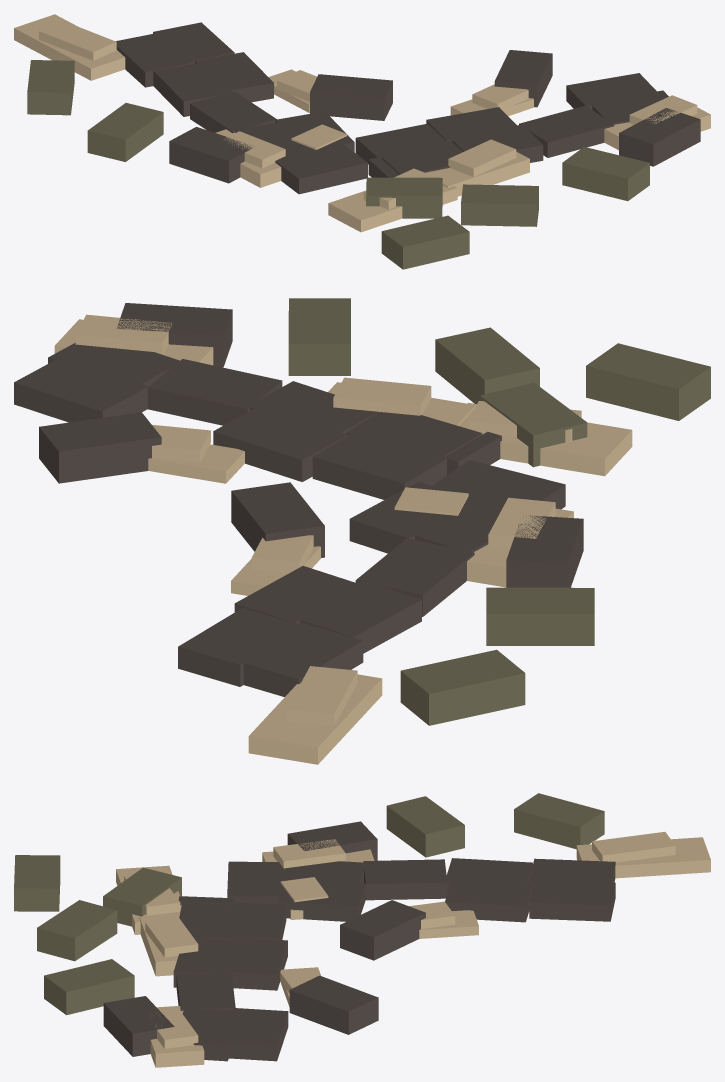
The model's file is SM_SacosEsquina_v1_Talud_e3_Brecha_LOD1.fbx.
3 renders of one model, top to bottom at view 1: azimuth 30°, elevation 25°; view 2: azimuth 150°, elevation 25°; view 3: azimuth 270°, elevation 25°, orthographic. The views are drawn at different scales.
Parts seen in each view (by area): view 1: SM_sacos_piezas_v7_LOD1; view 2: SM_sacos_piezas_v7_LOD1; view 3: SM_sacos_piezas_v7_LOD1.
Boxes of the visible parts, x1,y1,x2,y2 form: SM_sacos_piezas_v7_LOD1: (14, 14, 710, 269); SM_sacos_piezas_v7_LOD1: (14, 298, 710, 764); SM_sacos_piezas_v7_LOD1: (14, 793, 710, 1067).
Size of the model in its own units: 6.05 by 0.26 by 7.09.
